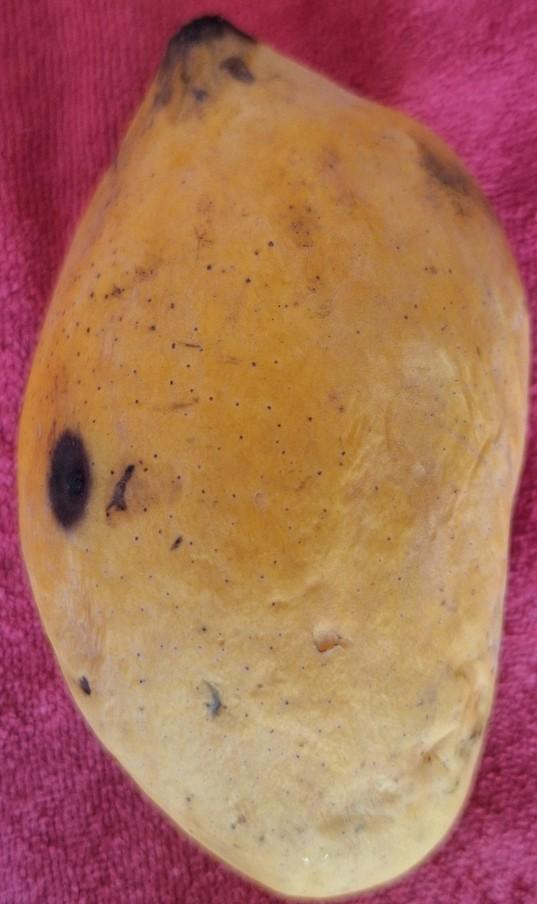mango: (14, 14, 531, 898)
